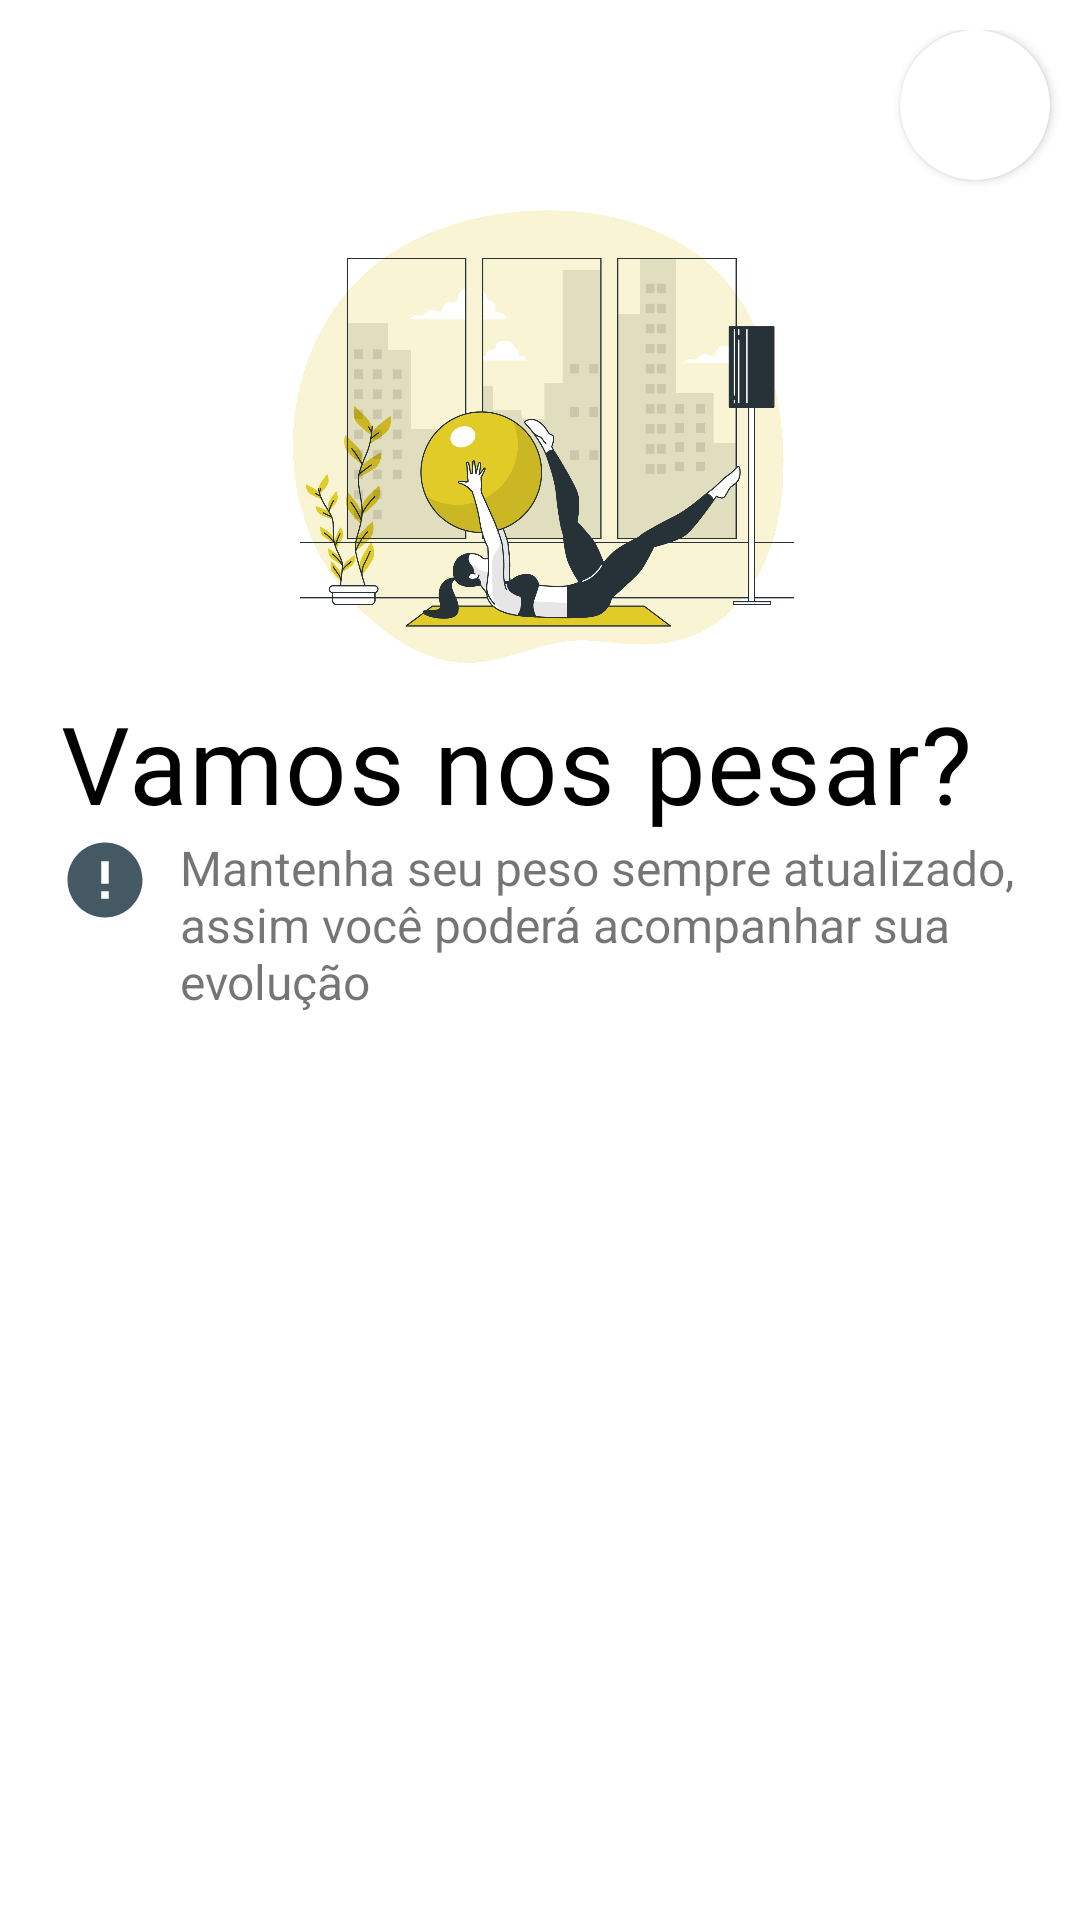

Where to tap for icons on this 1080px×1920px app screen, as (x,y):
error: (105,880)
